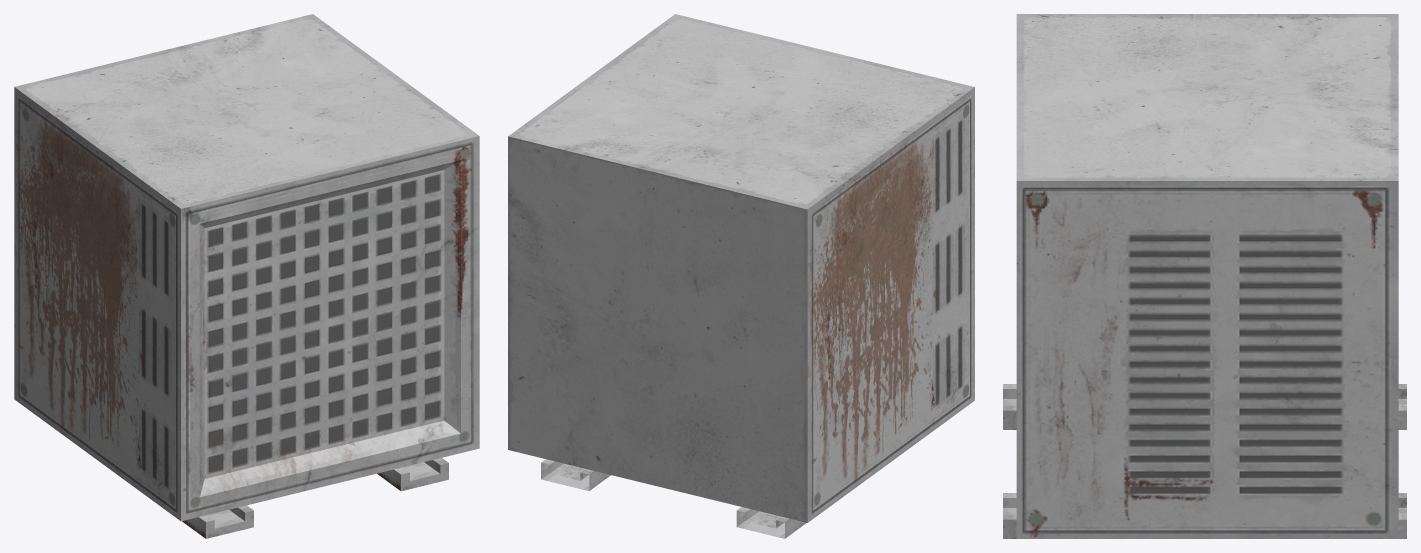
File: Conditioner_02.fbx
3 renders of one model, left to right at view 1: azimuth 30°, elevation 25°; view 2: azimuth 150°, elevation 25°; view 3: azimuth 270°, elevation 25°, orthographic. The views are drawn at different scales.
Visible parts, largest first — view 1: Conditioner_02; view 2: Conditioner_02; view 3: Conditioner_02.
Boxes of the visible parts, bbox=[...] form: Conditioner_02: bbox=[14, 14, 479, 538]; Conditioner_02: bbox=[508, 14, 974, 538]; Conditioner_02: bbox=[1003, 14, 1406, 538].
Bounding box in the file's own units: 51.86 × 54.83 × 53.03.
